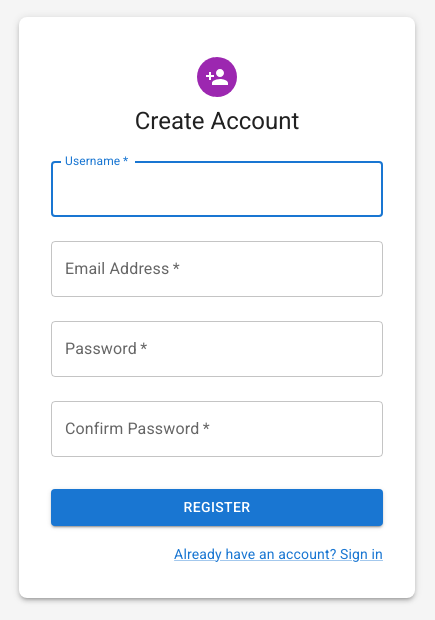
Test case: Register Component - Full Coverage › disables submit button during submission
Type "testuser" into the field labelled "Username *" at [217, 189], box [51,161,383,217]
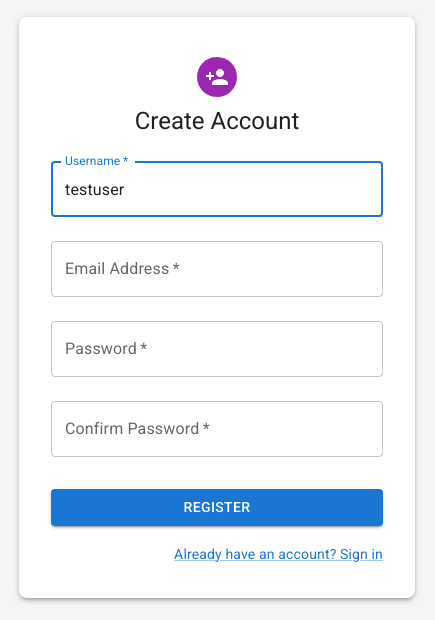
Type "test@example.com" into the field labelled "Email Address *" at [217, 269], box [51,241,383,297]
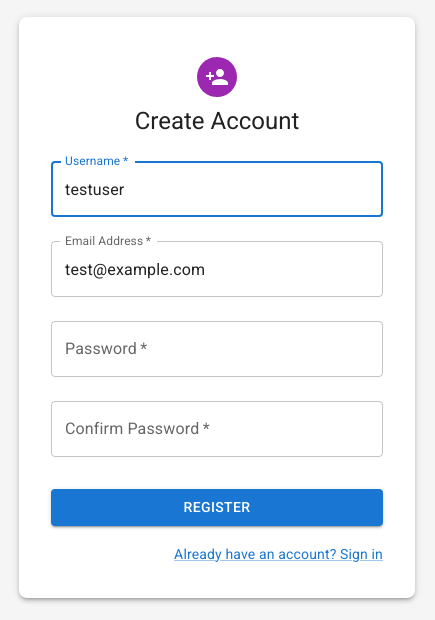
Click the button "Register" at [217, 507], box [51,489,383,526]
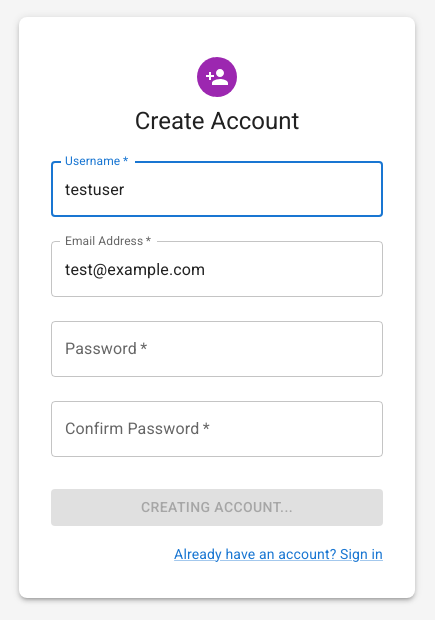
Expected: the button is disabled, [51,489,383,526]
